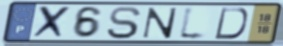6: (69, 6, 107, 40)
D: (213, 7, 250, 41)
L: (176, 5, 210, 42)
N: (140, 7, 180, 39)
S: (105, 5, 144, 40)
X: (30, 5, 74, 40)
